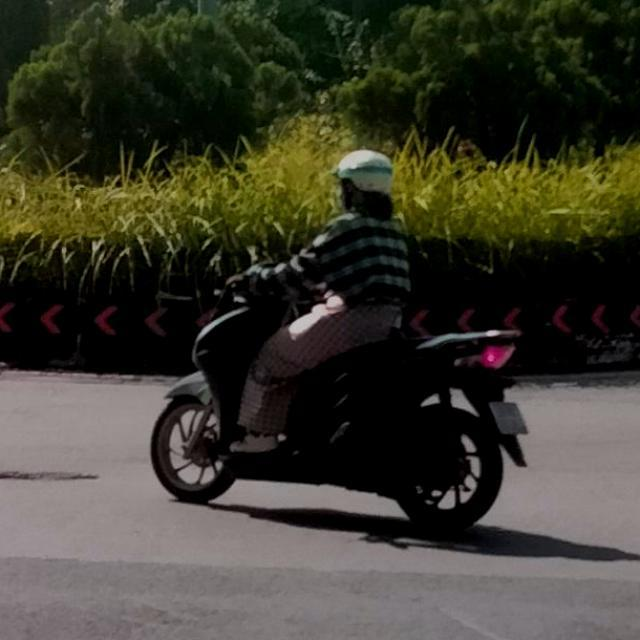Helmet: (334, 148, 394, 209)
